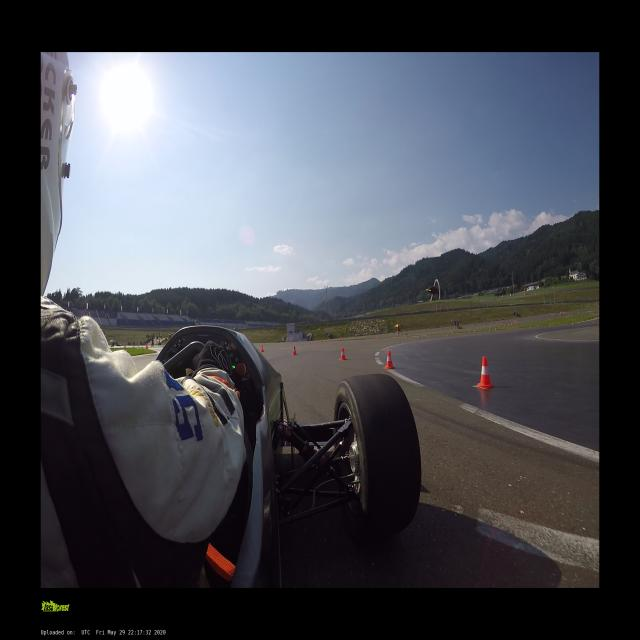orange_cone: (478, 357, 493, 388), (385, 350, 395, 369), (340, 348, 346, 360), (292, 346, 297, 355), (260, 345, 264, 352), (146, 344, 148, 349)
